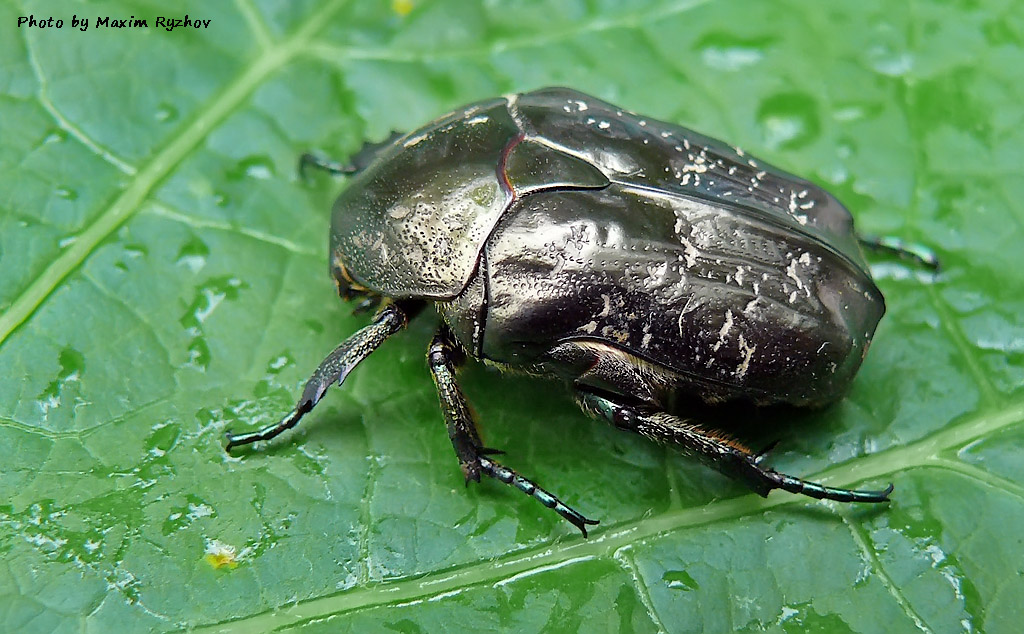Protaetia_lugubris: (224, 78, 944, 525)
